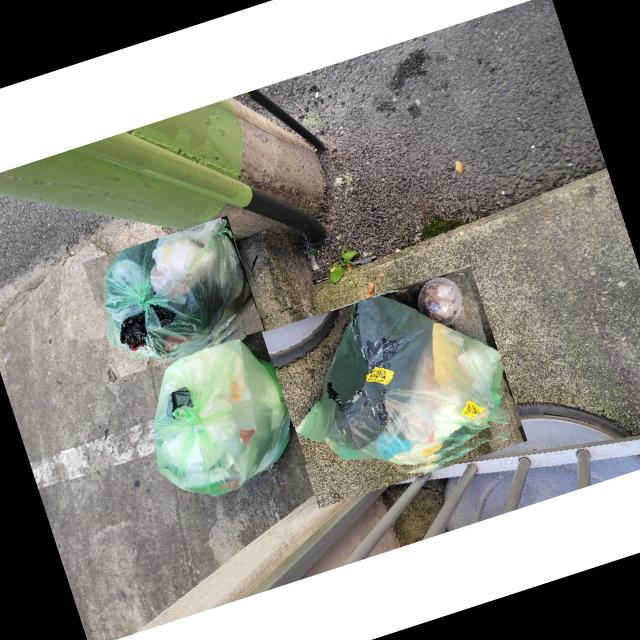general_trashbag: (297, 296, 510, 467), (153, 339, 291, 495), (104, 216, 252, 359), (355, 377, 356, 379)
